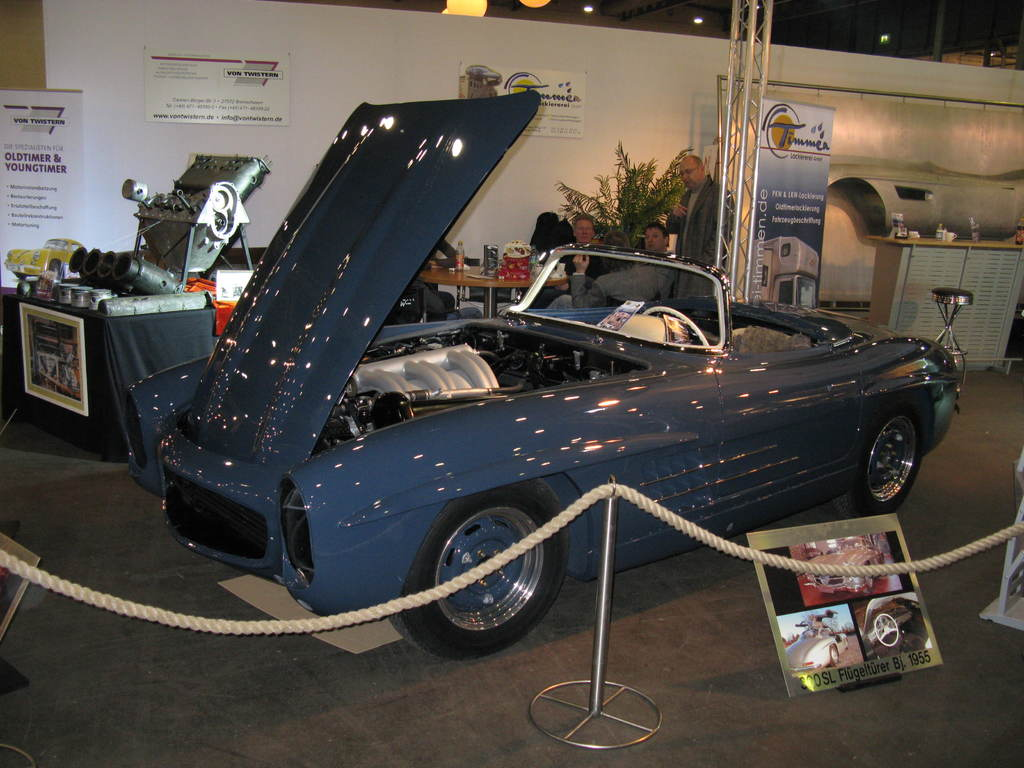Car: (122, 91, 960, 659), (858, 591, 931, 661), (801, 540, 885, 597), (784, 611, 848, 673), (4, 240, 88, 282), (464, 63, 501, 87)
